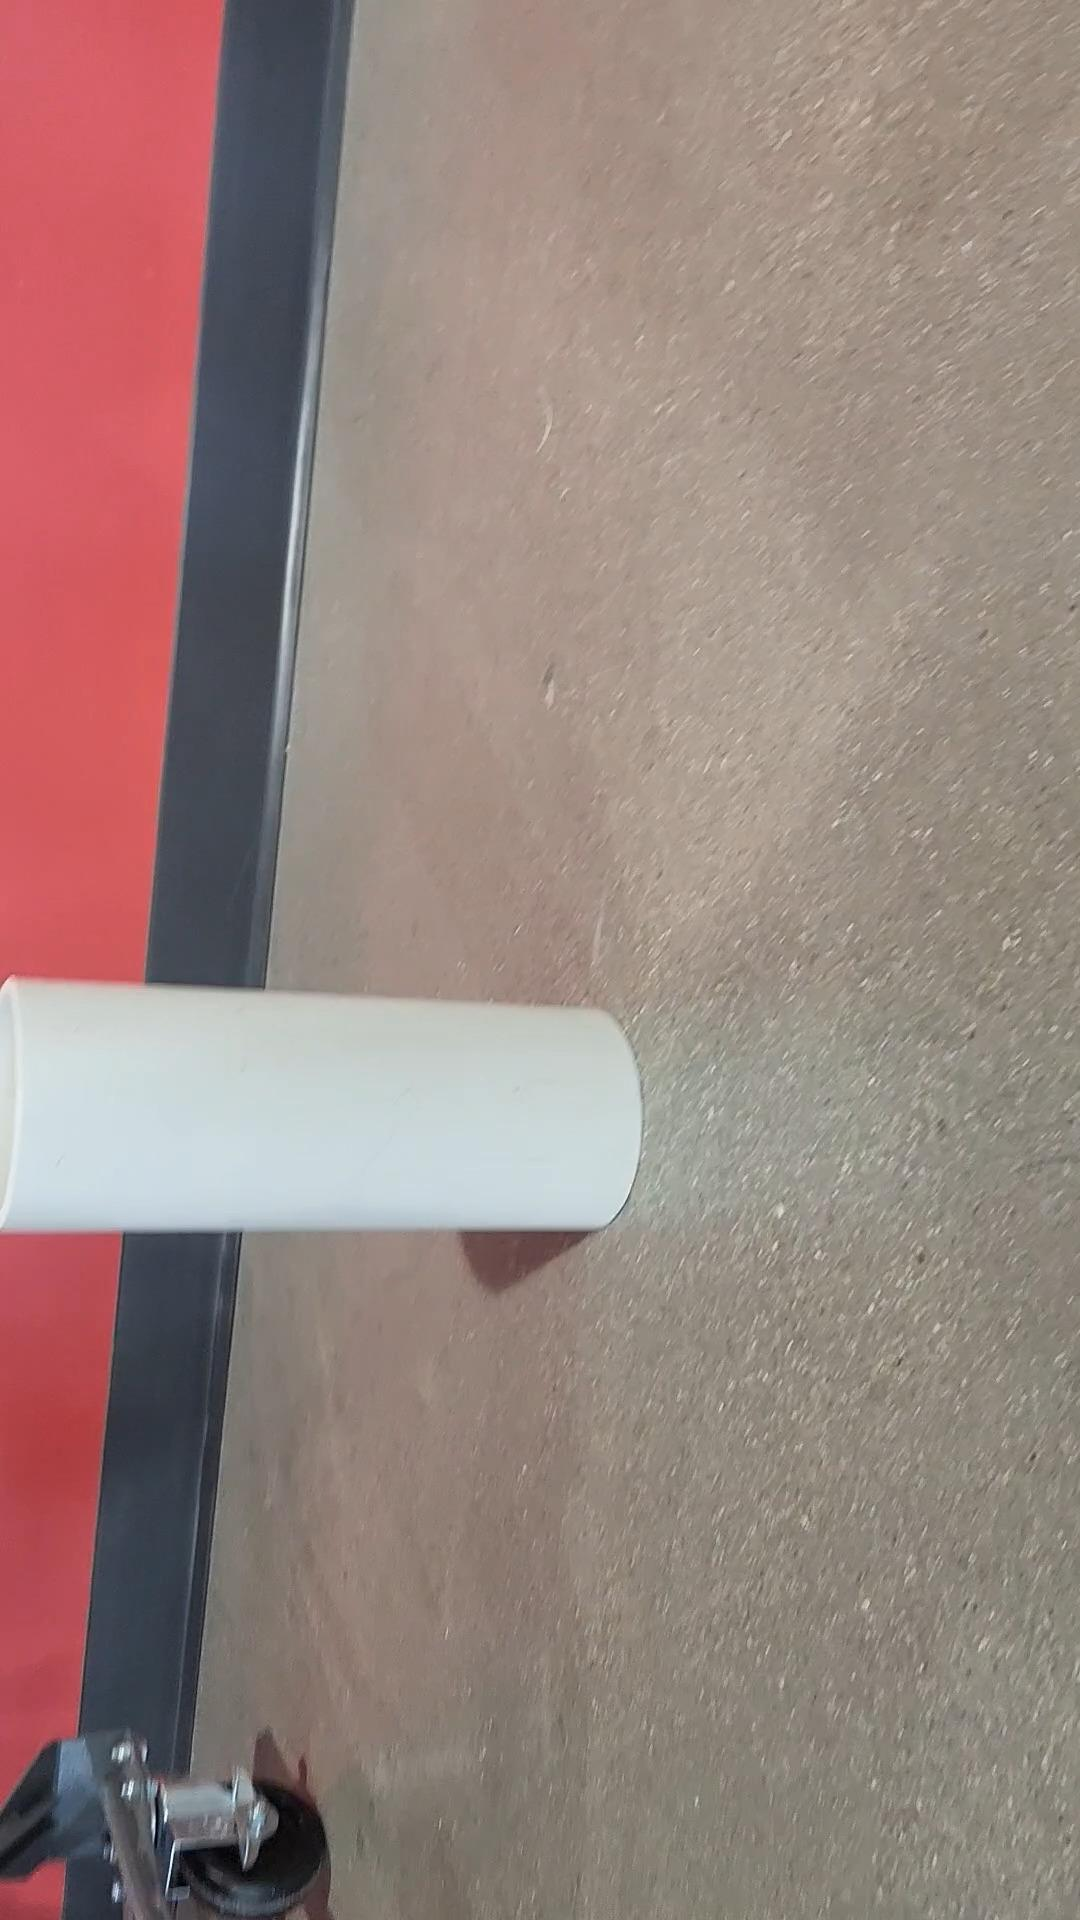coral: (0, 961, 657, 1253)
